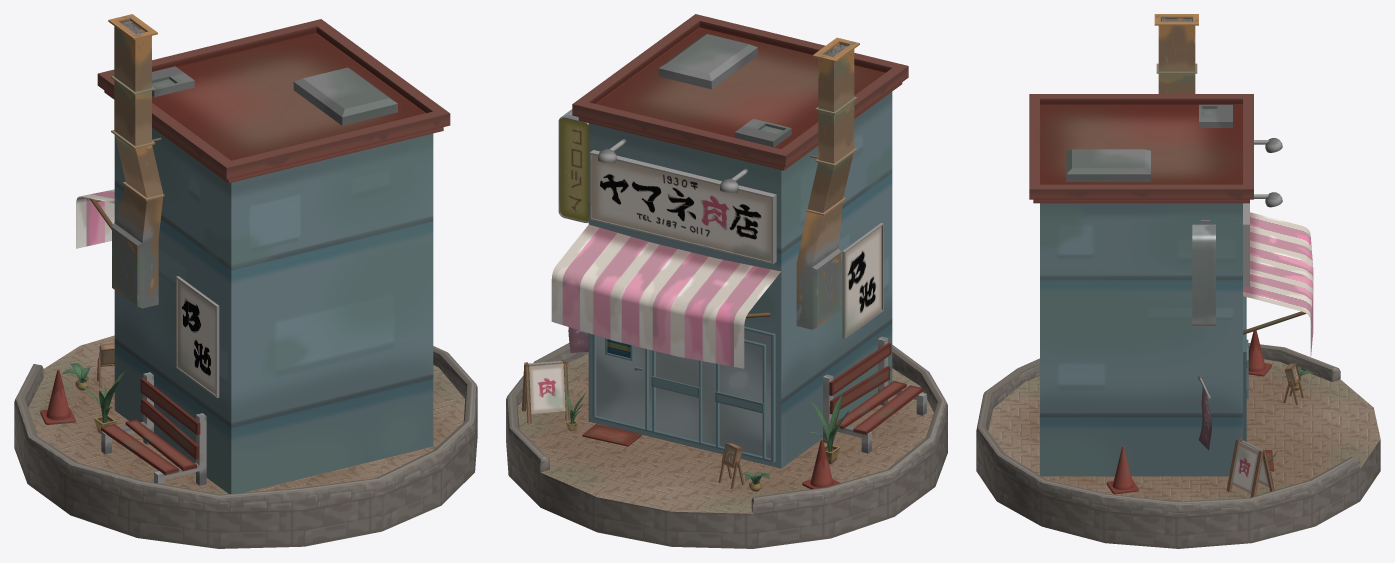
The model's file is Diorama_Tokyo_storefront.fbx.
3 renders of one model, left to right at view 1: azimuth 30°, elevation 25°; view 2: azimuth 150°, elevation 25°; view 3: azimuth 270°, elevation 25°, orthographic. The views are drawn at different scales.
Parts seen in each view (by area): view 1: Box030, Cylinder010, Box033, Box041, Box045, Box034, Plane004, Pylon, Box048, Box043; view 2: Box030, Cylinder010, Plane004, Box032, Box033, Box031, Box041, Box045, Box034, Sign, Werbung, Box048 (+4 smaller); view 3: Box030, Cylinder010, Plane004, Box033, Box034, Sign, Werbung, Box048, Pylon002, Box031, Pylon, Fahne (+1 smaller).
Boxes of the visible parts, x1=… form: Box030: x1=97, y1=19, x2=450, y2=493; Cylinder010: x1=14, y1=335, x2=477, y2=548; Box033: x1=108, y1=14, x2=164, y2=308; Box041: x1=101, y1=372, x2=206, y2=485; Box045: x1=176, y1=276, x2=219, y2=397; Box034: x1=293, y1=67, x2=397, y2=125; Plane004: x1=76, y1=189, x2=114, y2=248; Pylon: x1=40, y1=370, x2=75, y2=424; Box048: x1=152, y1=66, x2=194, y2=97; Box043: x1=80, y1=368, x2=127, y2=433; Box030: x1=572, y1=14, x2=908, y2=468; Cylinder010: x1=506, y1=343, x2=947, y2=548; Plane004: x1=551, y1=224, x2=780, y2=368; Box032: x1=589, y1=150, x2=776, y2=264; Box033: x1=796, y1=37, x2=859, y2=329; Box031: x1=592, y1=326, x2=775, y2=462; Box041: x1=823, y1=336, x2=926, y2=453; Box045: x1=842, y1=223, x2=883, y2=339; Box034: x1=658, y1=34, x2=757, y2=89; Sign: x1=558, y1=109, x2=588, y2=222; Werbung: x1=521, y1=359, x2=569, y2=423; Box048: x1=734, y1=118, x2=791, y2=147; Box030: x1=1029, y1=94, x2=1253, y2=476; Cylinder010: x1=976, y1=343, x2=1380, y2=548; Plane004: x1=1243, y1=212, x2=1313, y2=358; Box033: x1=1154, y1=14, x2=1198, y2=93; Box034: x1=1066, y1=149, x2=1150, y2=181; Sign: x1=1192, y1=220, x2=1215, y2=326; Werbung: x1=1226, y1=438, x2=1274, y2=497; Box048: x1=1199, y1=104, x2=1232, y2=127; Pylon002: x1=1106, y1=446, x2=1138, y2=494; Box031: x1=1243, y1=296, x2=1248, y2=441; Pylon: x1=1248, y1=330, x2=1271, y2=376; Fahne: x1=1198, y1=375, x2=1211, y2=450.
Bounding box in the file's own units: 595 × 644 × 597.
